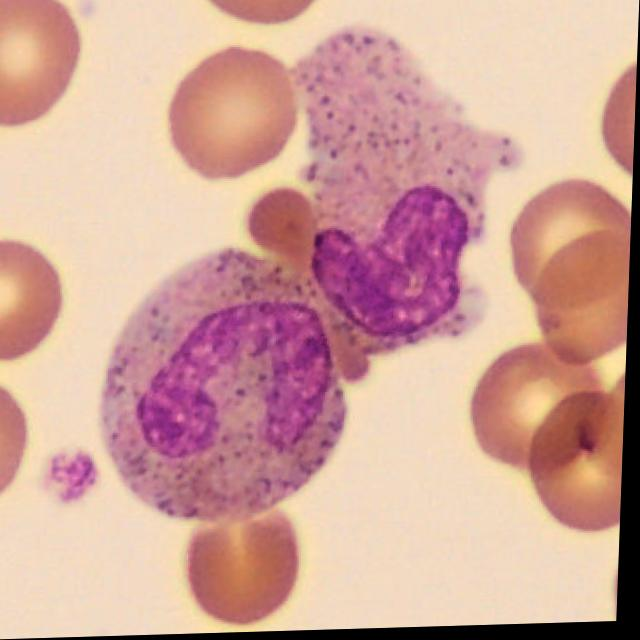Neutrofilo segmentado: (288, 29, 520, 358), (104, 255, 347, 519)
